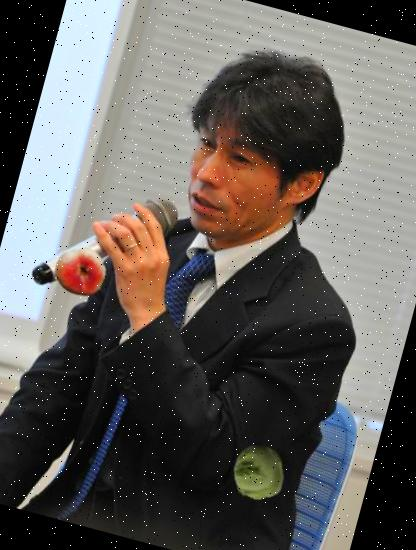Kohlrabi: (224, 438, 294, 506)
Peach: (50, 242, 112, 304)
